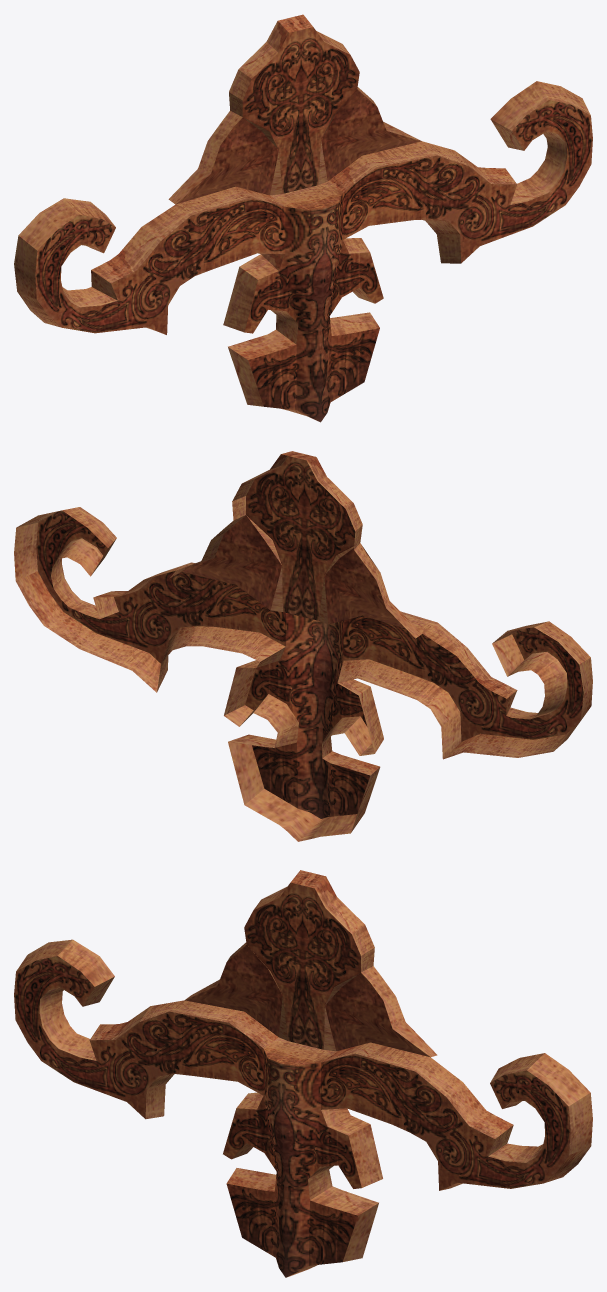
The model's file is M_Home_Garden_Candle_holder_08.fbx.
The picture shows the model from 3 angles, top to bottom: view 1: azimuth 30°, elevation 25°; view 2: azimuth 150°, elevation 25°; view 3: azimuth 330°, elevation 25°; orthographic projection.
Visible parts, largest first — view 1: M_Home_Garden_Candle_holder_08; view 2: M_Home_Garden_Candle_holder_08; view 3: M_Home_Garden_Candle_holder_08.
Part boxes in pixels (x1=…): M_Home_Garden_Candle_holder_08: x1=14, y1=14, x2=592, y2=422; M_Home_Garden_Candle_holder_08: x1=14, y1=451, x2=592, y2=841; M_Home_Garden_Candle_holder_08: x1=14, y1=870, x2=592, y2=1277.
Bounding box in the file's own units: 99.7 × 65.27 × 10.12.
